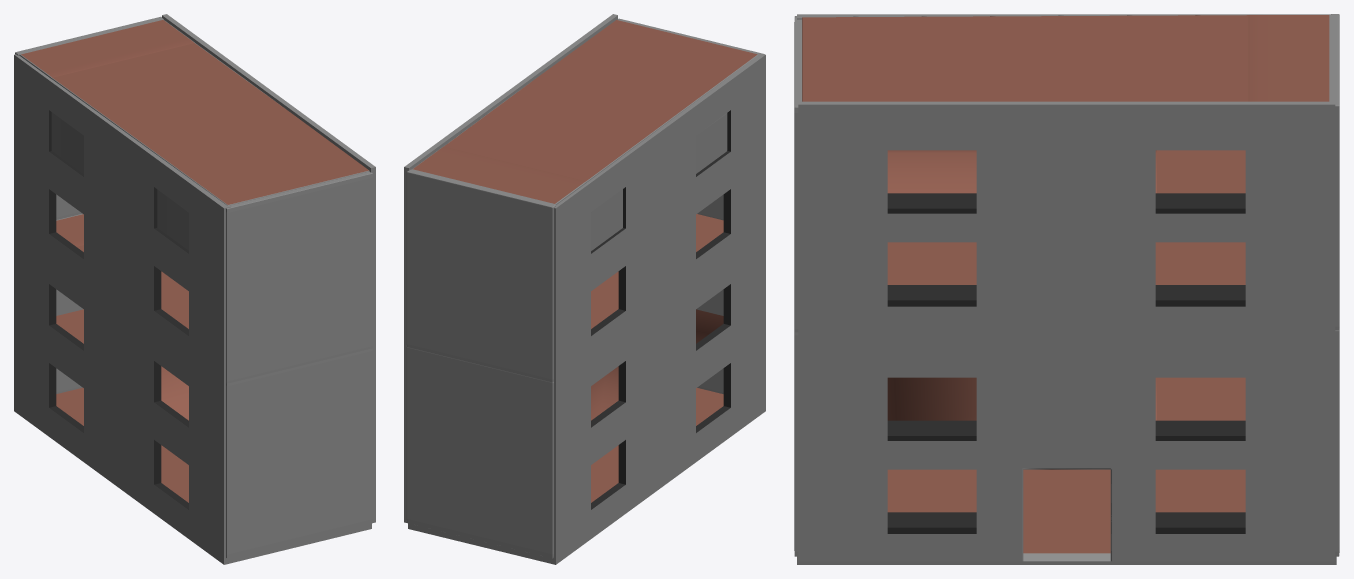
The model's file is stepfinal.fbx.
3 renders of one model, left to right at view 1: azimuth 30°, elevation 25°; view 2: azimuth 150°, elevation 25°; view 3: azimuth 270°, elevation 25°, orthographic. The views are drawn at different scales.
Parts seen in each view (by area): view 1: Cube; view 2: Cube; view 3: Cube.
Part boxes in pixels (x1,y1,x2,y2): Cube: [14, 14, 375, 564]; Cube: [404, 14, 765, 564]; Cube: [794, 14, 1339, 564].
Size of the model in its own units: 1474 by 2956 by 3153.
